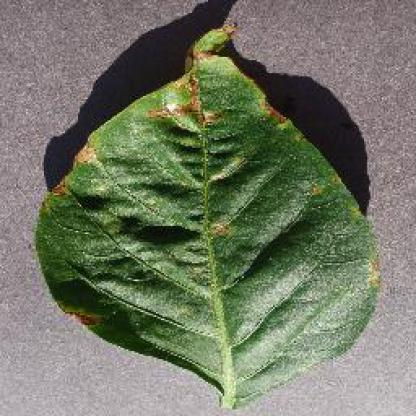bad leaf: (162, 72, 246, 152), (59, 137, 128, 214), (361, 245, 389, 290), (269, 92, 295, 138), (70, 301, 108, 329)
